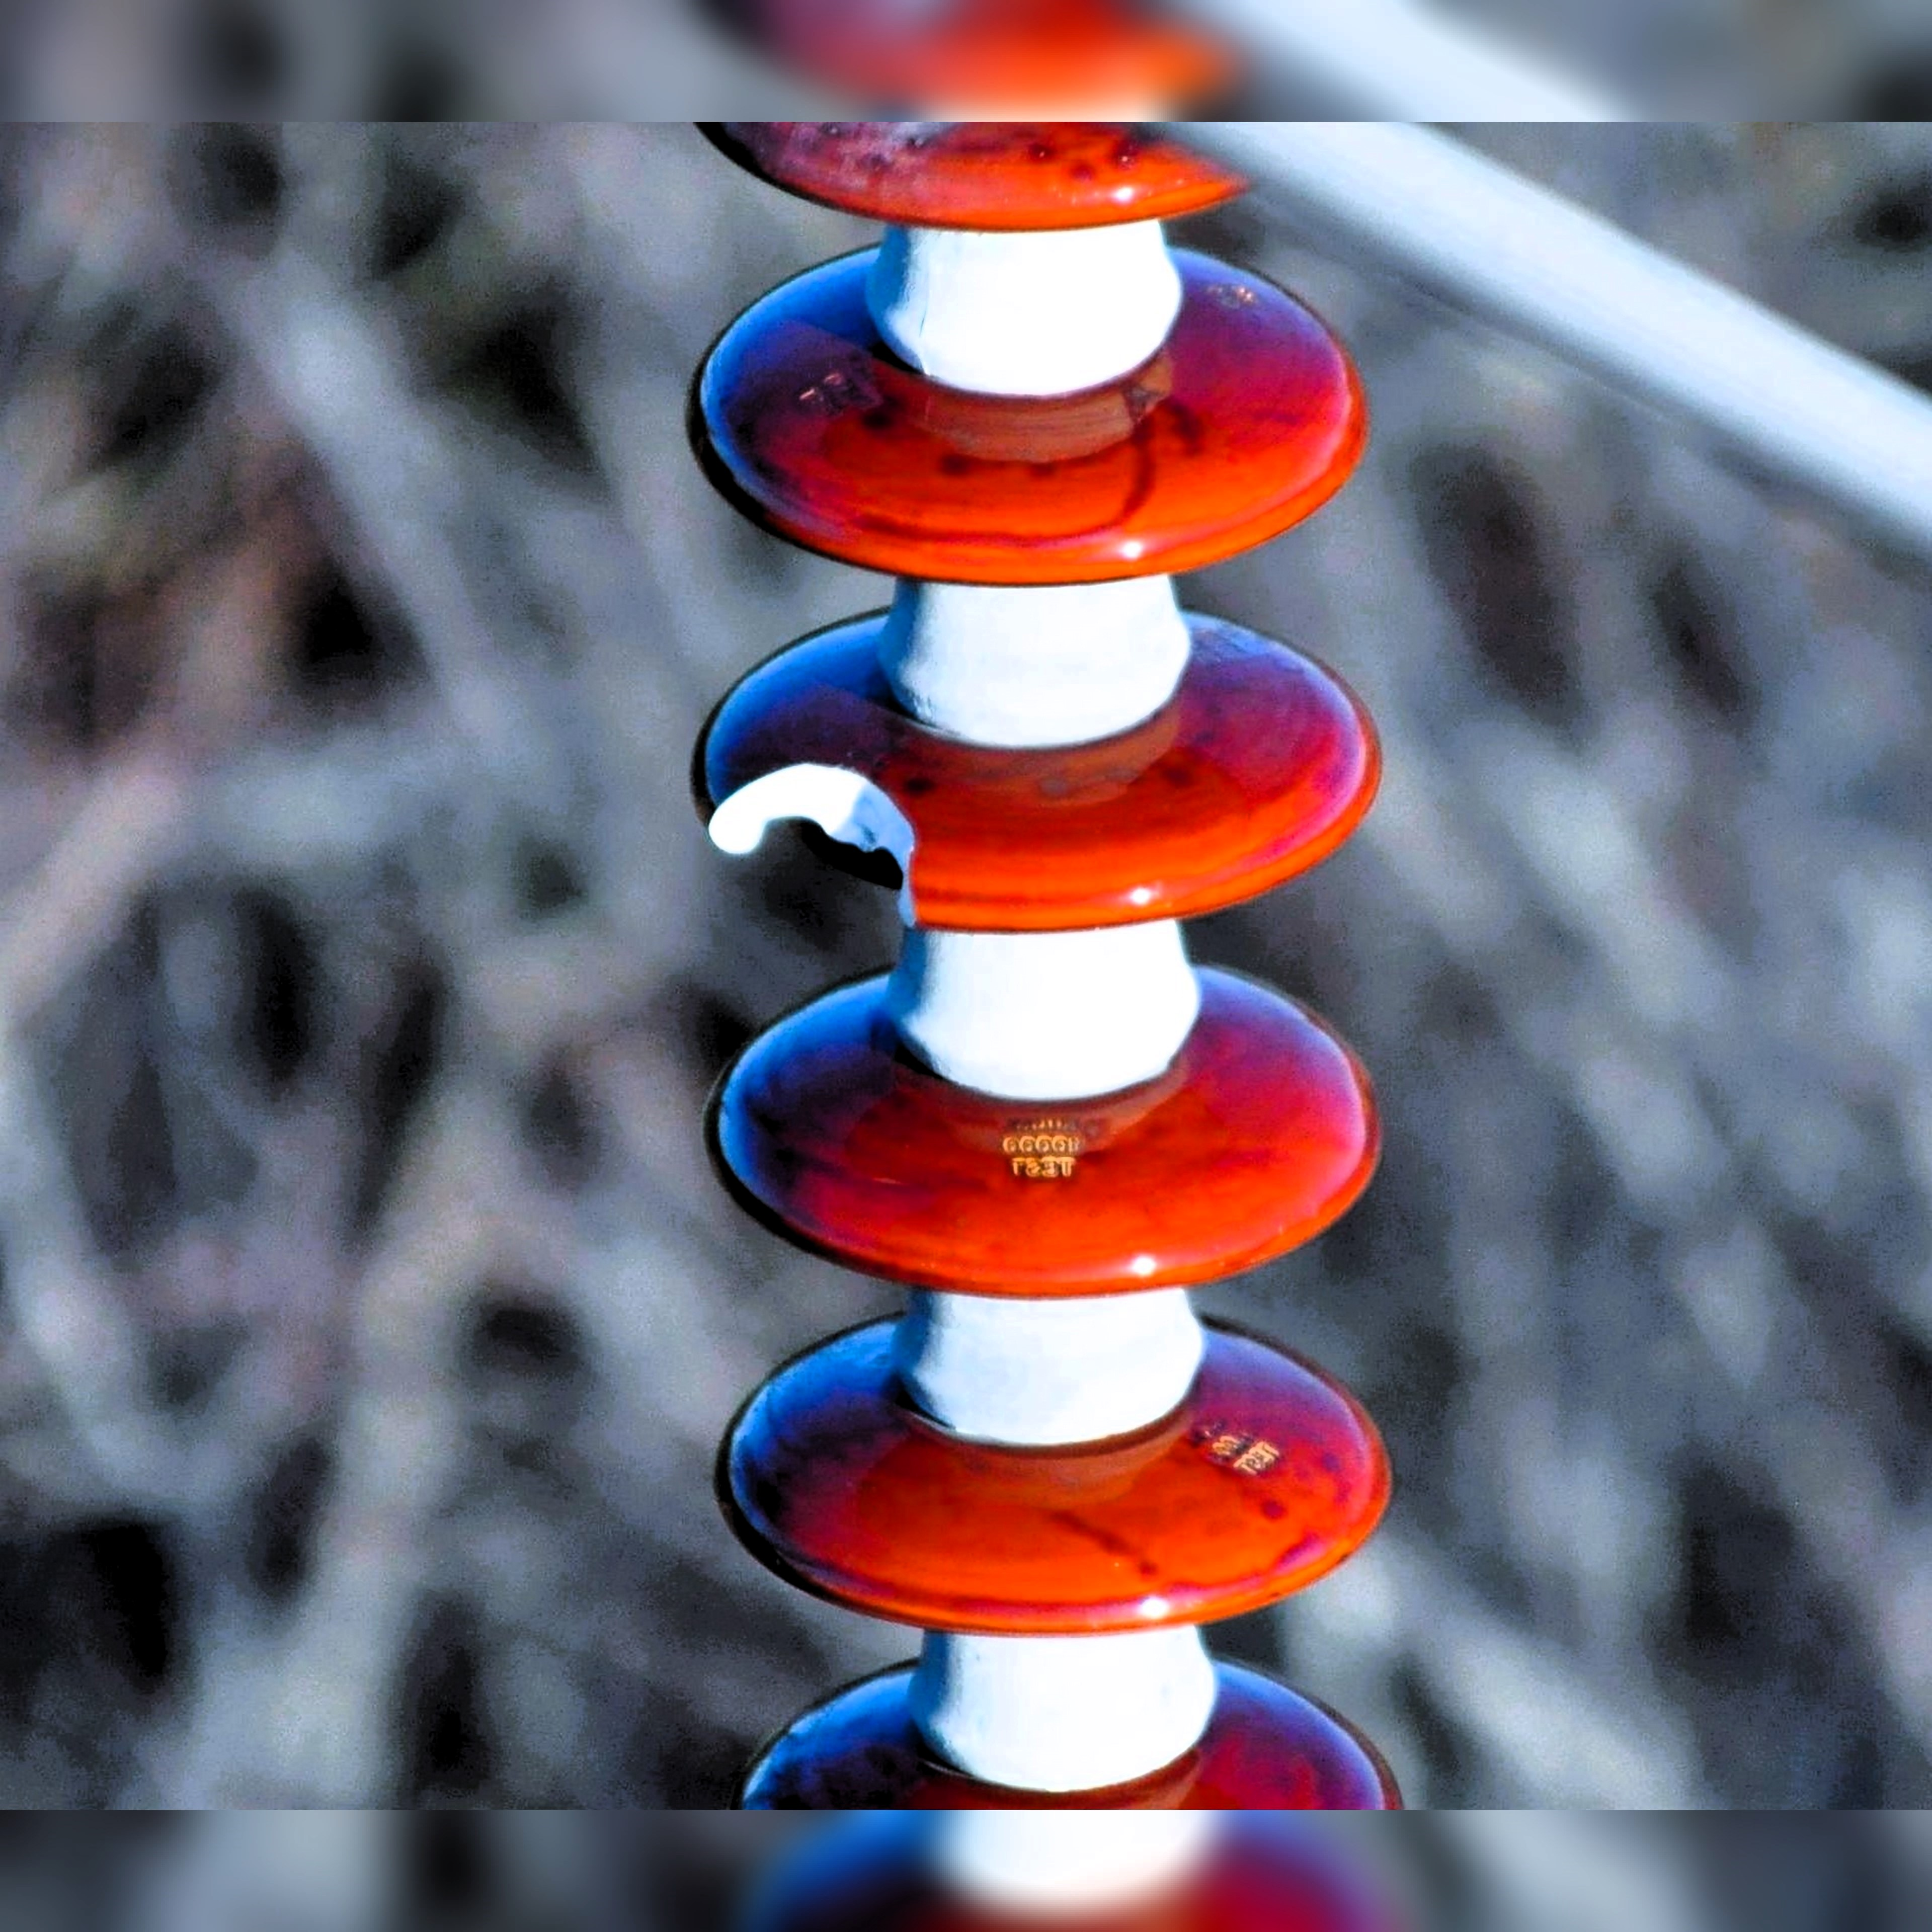insulator breakage: (649, 594, 1401, 941)
